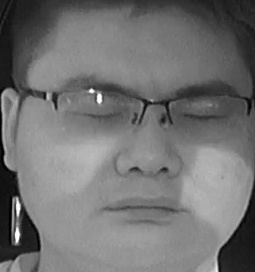blink: (80, 106, 117, 122), (177, 108, 218, 122)
glass: (54, 87, 148, 136), (167, 94, 252, 142)
mouth: (107, 191, 185, 228)
